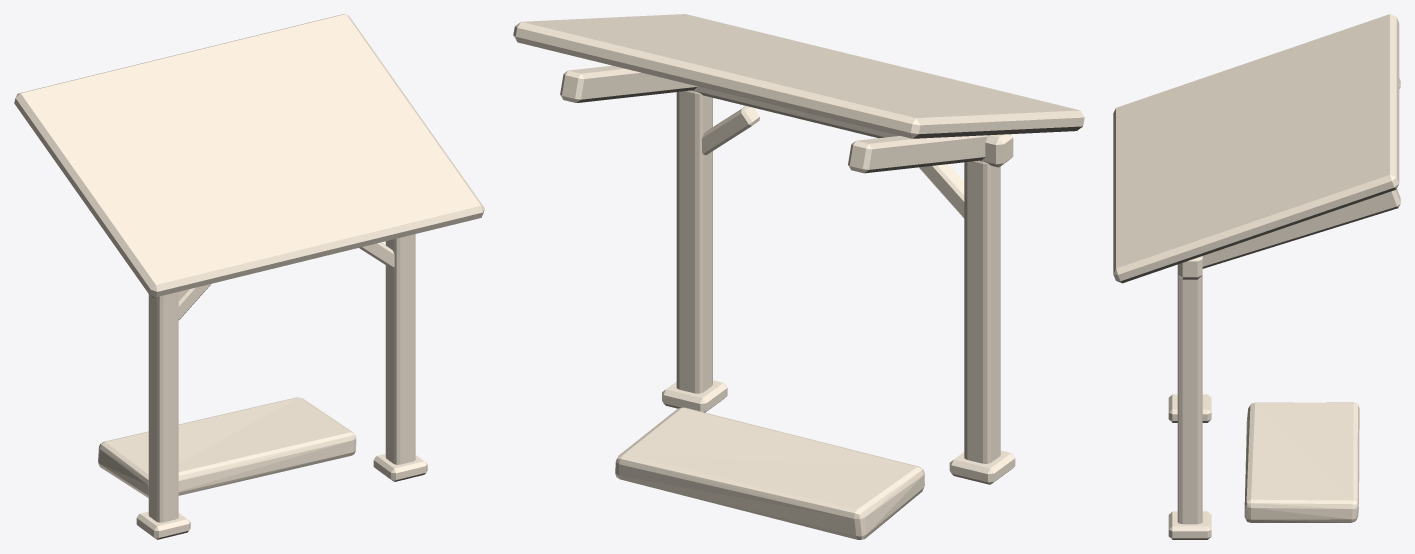
Rendered from SM_VK_Porch.fbx.
3 views of the same model, side by side, from view 1: azimuth 30°, elevation 25°; view 2: azimuth 150°, elevation 25°; view 3: azimuth 270°, elevation 25° (orthographic). The views are drawn at different scales.
Visible parts, largest first — view 1: SM_VK_Porch.001; view 2: SM_VK_Porch.001; view 3: SM_VK_Porch.001.
Part boxes in pixels (x1=…): SM_VK_Porch.001: x1=14, y1=14, x2=484, y2=539; SM_VK_Porch.001: x1=513, y1=14, x2=1084, y2=539; SM_VK_Porch.001: x1=1113, y1=14, x2=1400, y2=539.
Bounding box in the file's own units: 3.1 × 3.34 × 2.28.
